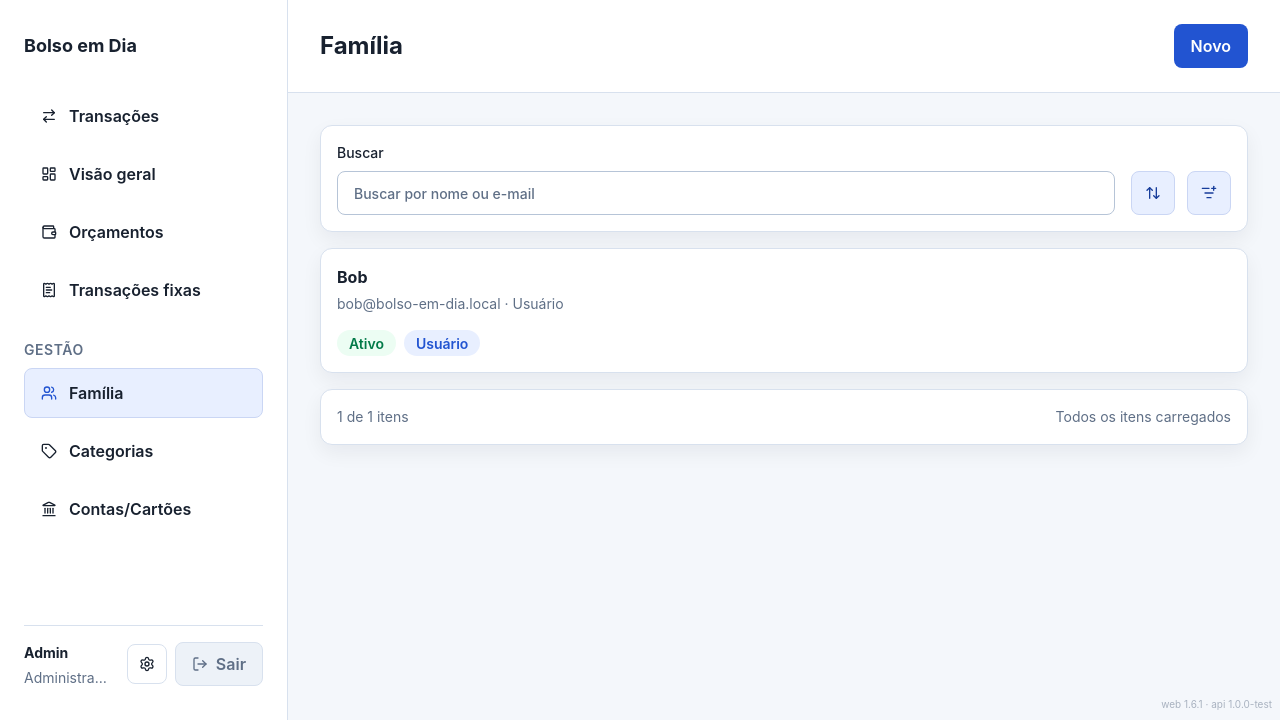
Test case: FamilyPage › shows error feedback when archive fails
The width and height of the screenshot is (1280, 720).
Expected: the text "Bob" is shown, [337,267,368,287]
Click the button "Bob bob@bolso-em-dia.local · Usuário Ativo Usuário".
click(352, 277)  # box [337,265,1231,356]
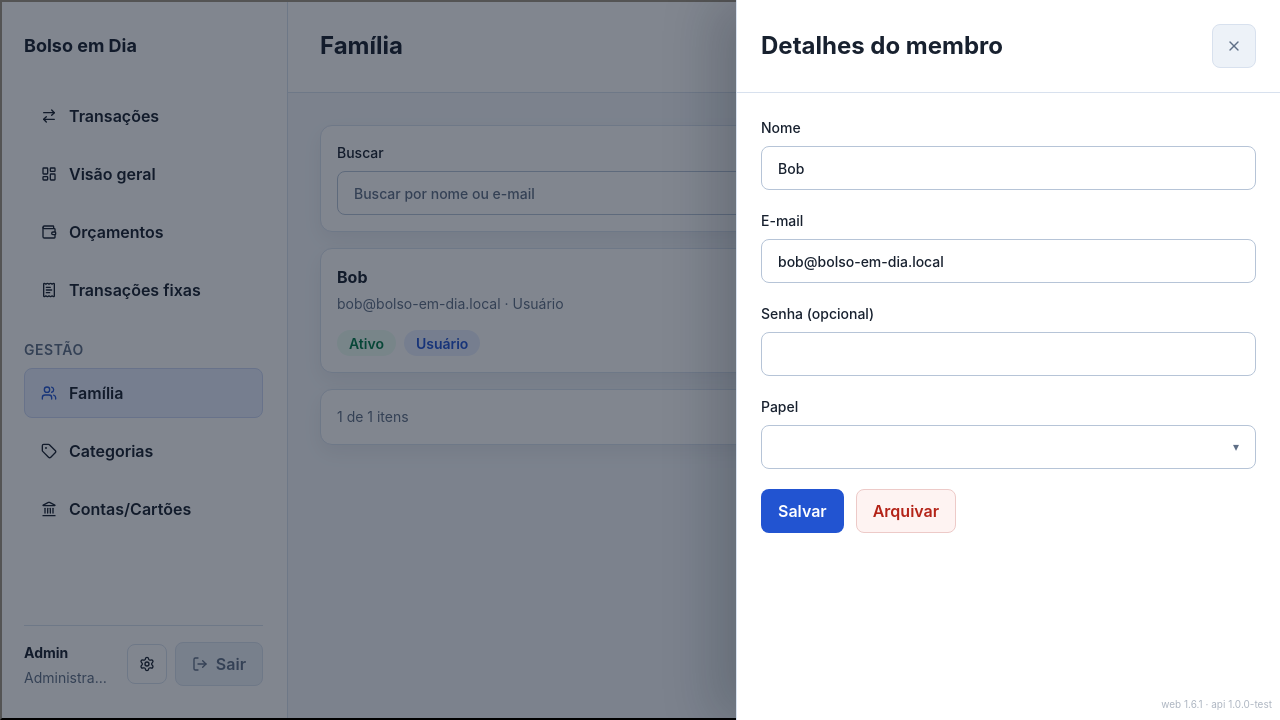
Click the button "Arquivar".
click(906, 511)  # box [856,489,956,533]
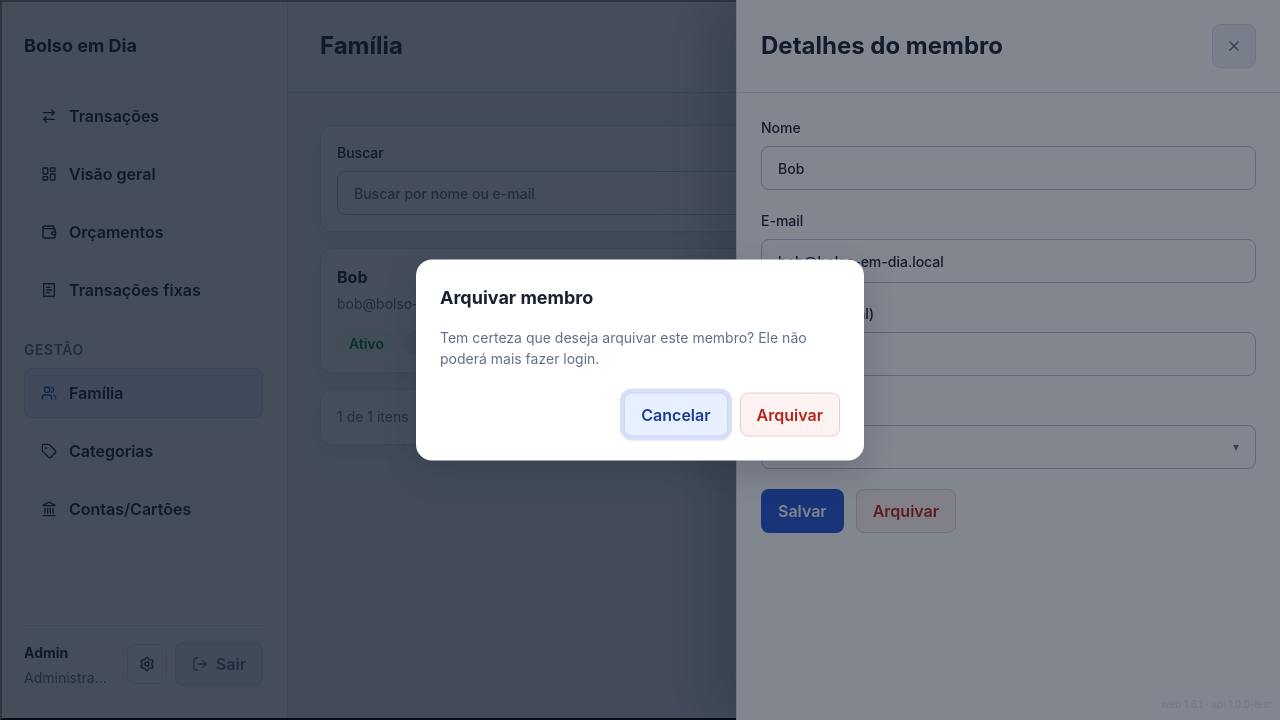
Click the button "Arquivar".
click(790, 414)  # box [740,392,840,436]
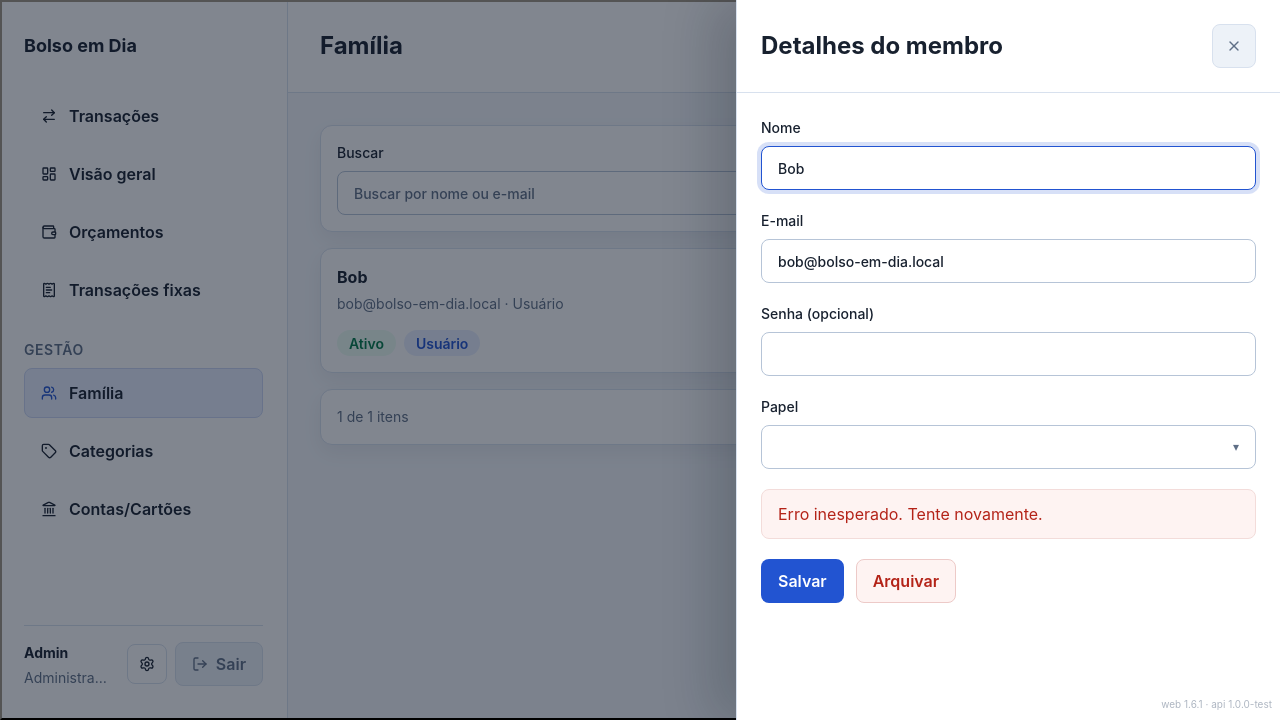
Result: the text "Erro inesperado. Tente novamente." is shown at [761,489,1256,539]
